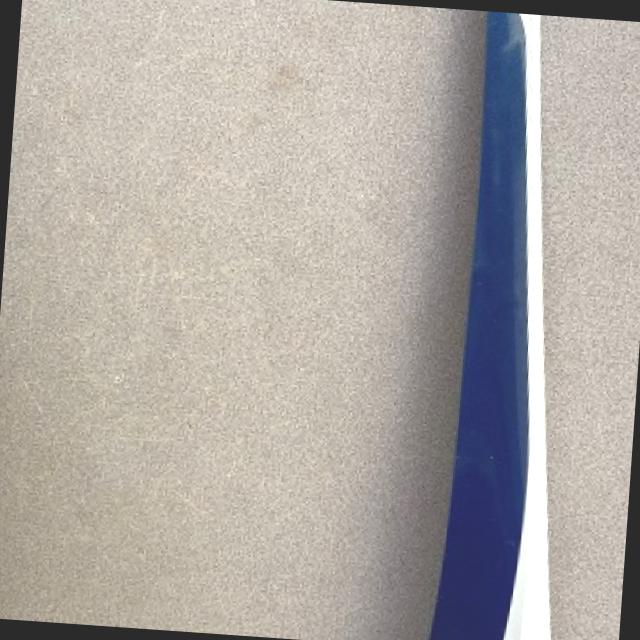healthy: (426, 11, 546, 640)
